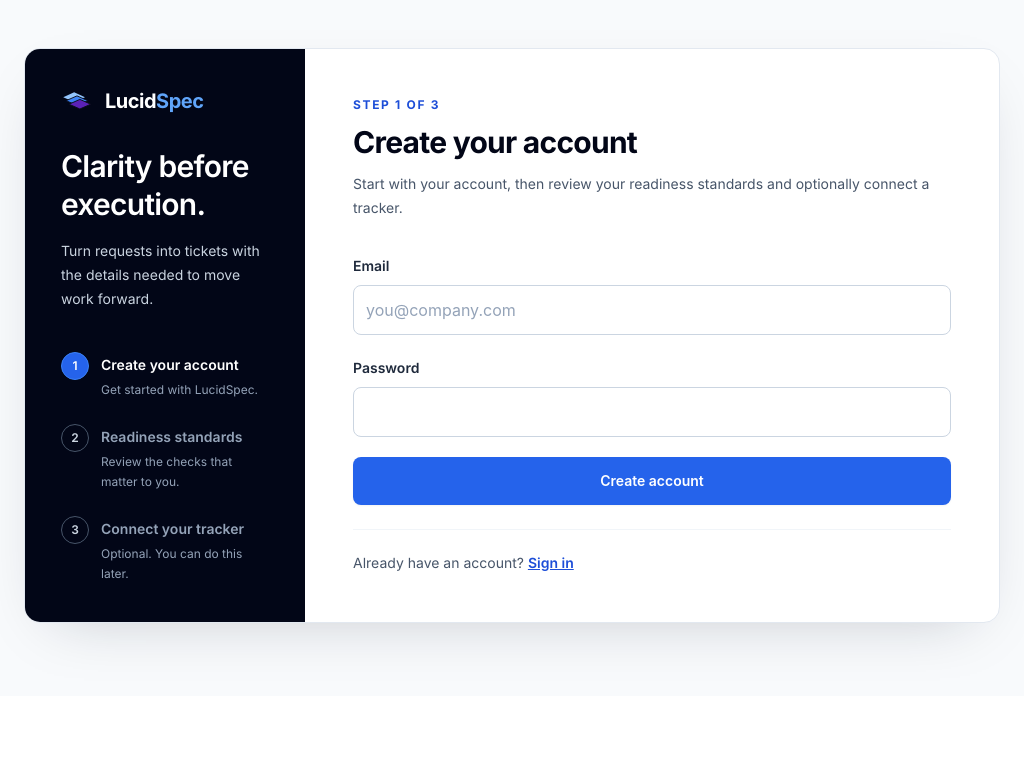
SignUpPage › shows email confirmation without claiming an authenticated session or navigating
This screenshot has width=1024, height=768.
Type "demo@example.com" into the field labelled "Email" at (652, 310), box [353,285,951,335]
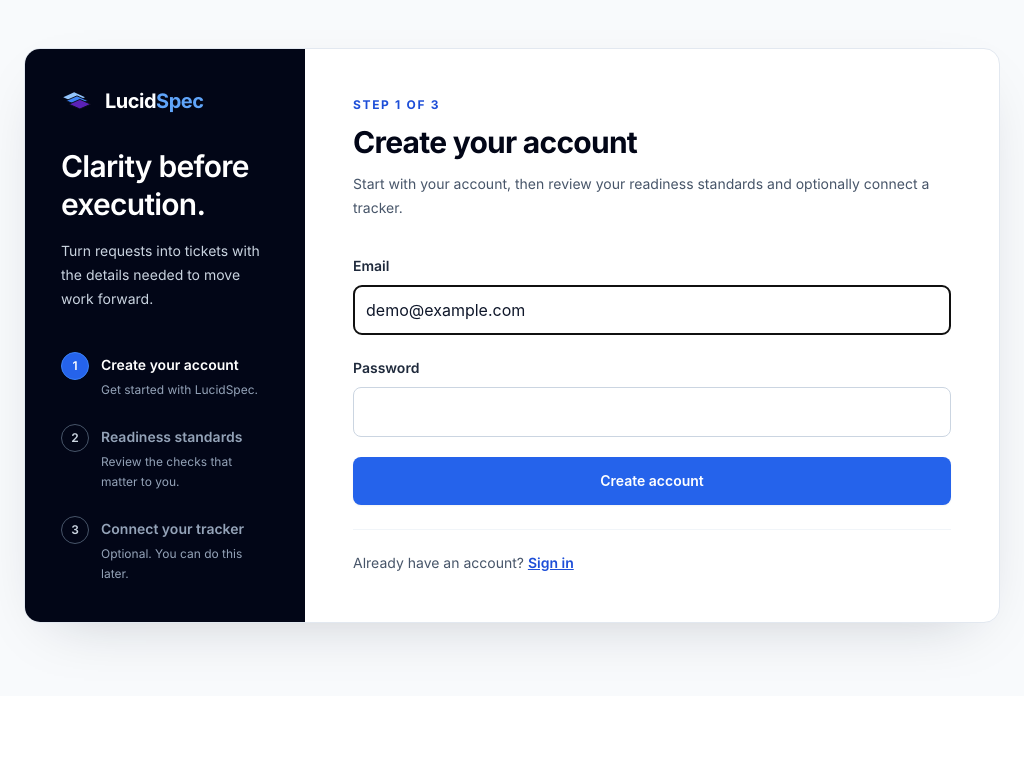
Type "example-password" into the password field labelled "Password" at (652, 412), box [353,387,951,437]
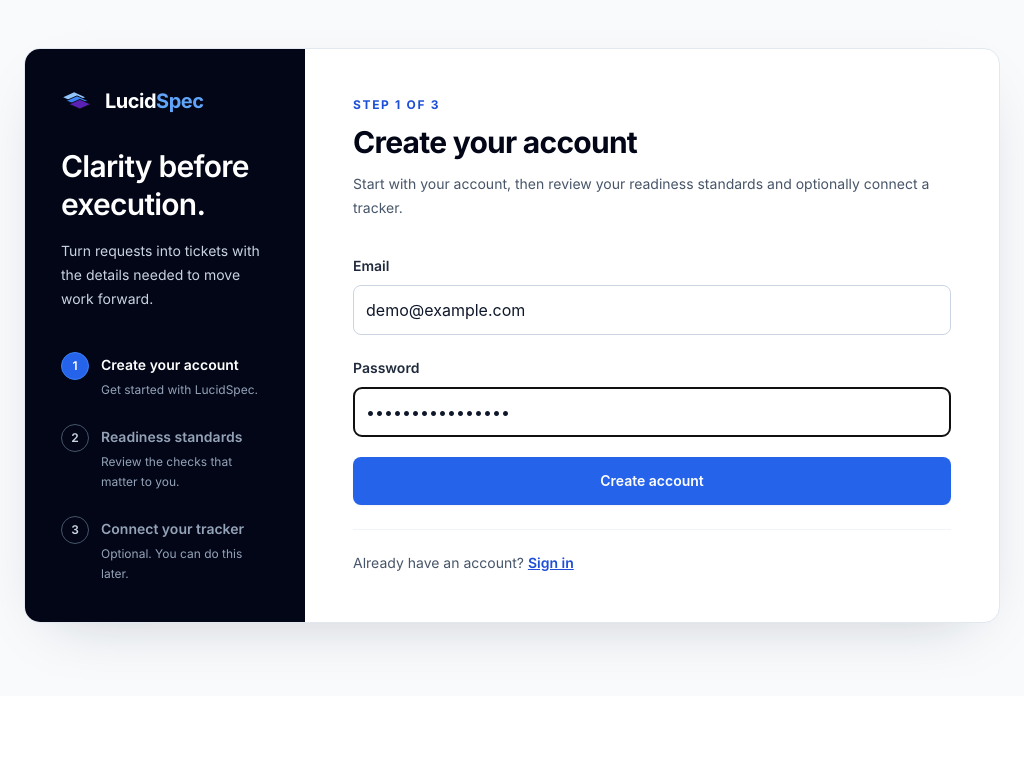
Click the button "Create account" at (652, 481), box [353,457,951,505]
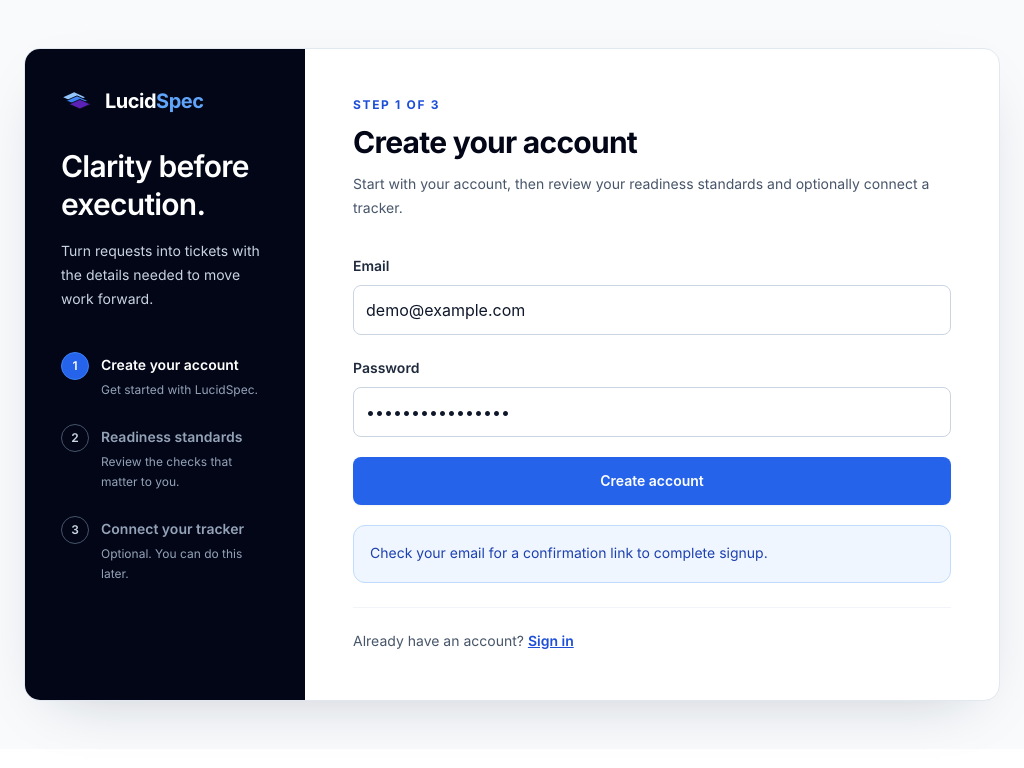
expect the message shows "Check your email for a confirmation link": met, box [370,545,768,562]
